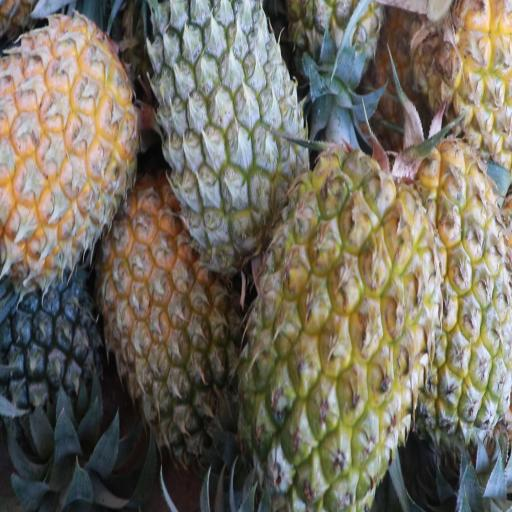------------------------------: (108, 188, 242, 460)
Pineapple - v8 v1: (239, 146, 439, 506), (392, 142, 510, 449), (0, 10, 138, 269)
